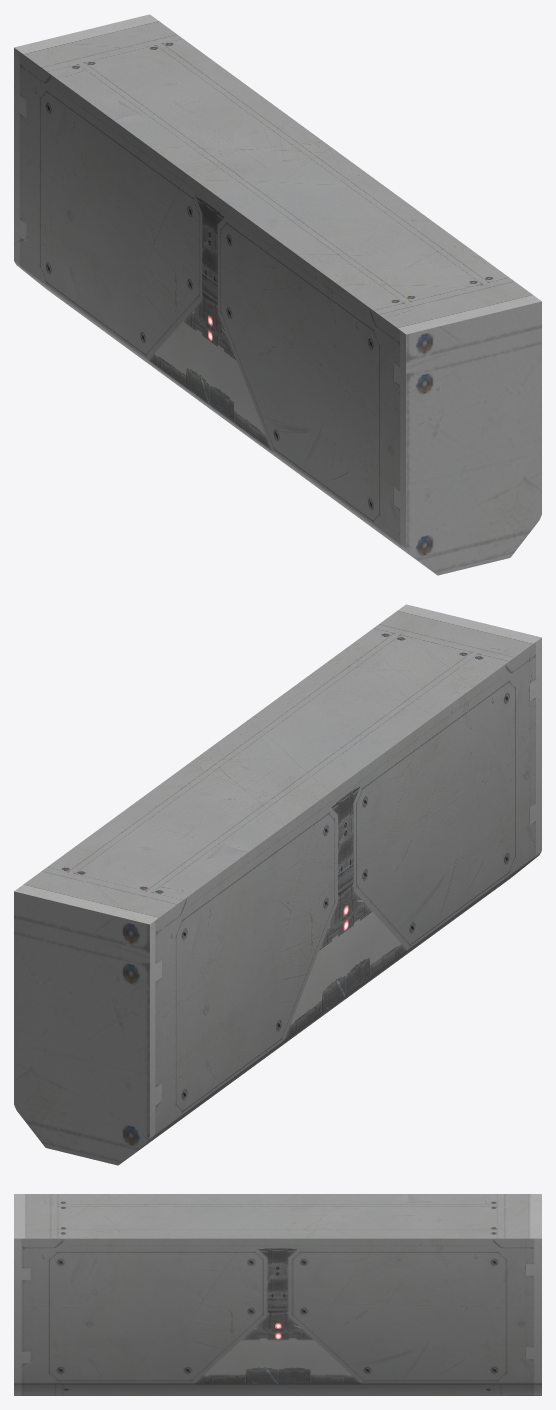
File: SM_Wall_Small10.fbx
The picture shows the model from 3 angles, top to bottom: view 1: azimuth 30°, elevation 25°; view 2: azimuth 150°, elevation 25°; view 3: azimuth 270°, elevation 25°; orthographic projection. The views are drawn at different scales.
Visible parts, largest first — view 1: SM_Wall_Small10_LOD0; view 2: SM_Wall_Small10_LOD0; view 3: SM_Wall_Small10_LOD0.
Boxes of the visible parts, x1=… form: SM_Wall_Small10_LOD0: x1=14, y1=14, x2=541, y2=575; SM_Wall_Small10_LOD0: x1=14, y1=604, x2=541, y2=1165; SM_Wall_Small10_LOD0: x1=14, y1=1194, x2=541, y2=1395.
Bounding box in the file's own units: 80 × 400 × 140.
Materials: 1 (1 with a texture image).
